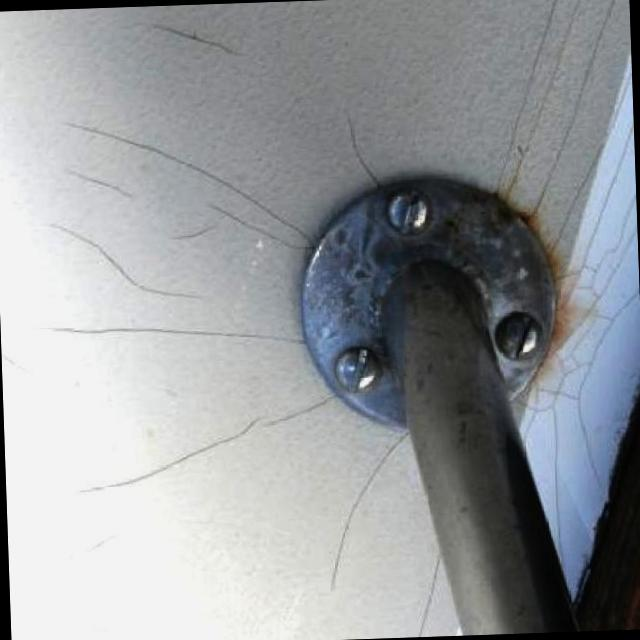crack: (72, 103, 322, 267), (42, 214, 224, 316), (301, 434, 415, 578), (43, 316, 304, 370), (87, 426, 263, 491), (218, 188, 302, 262), (153, 26, 240, 72), (344, 110, 388, 182), (60, 172, 132, 202), (167, 207, 213, 244)
